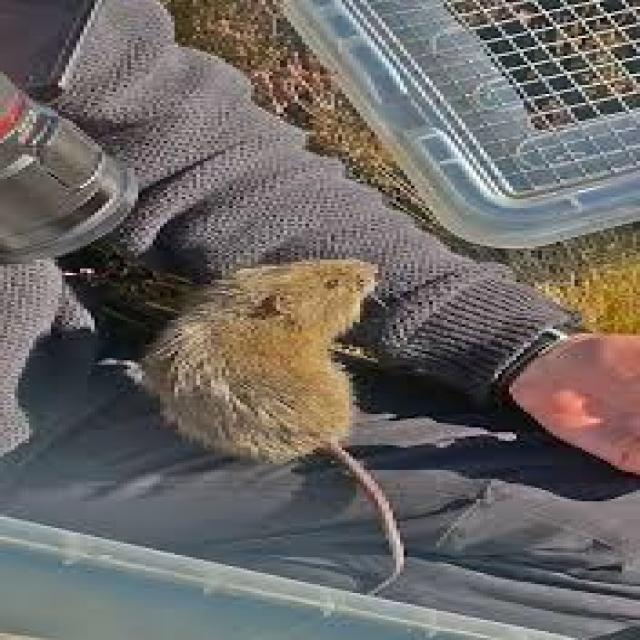Rat: (151, 241, 422, 522)
